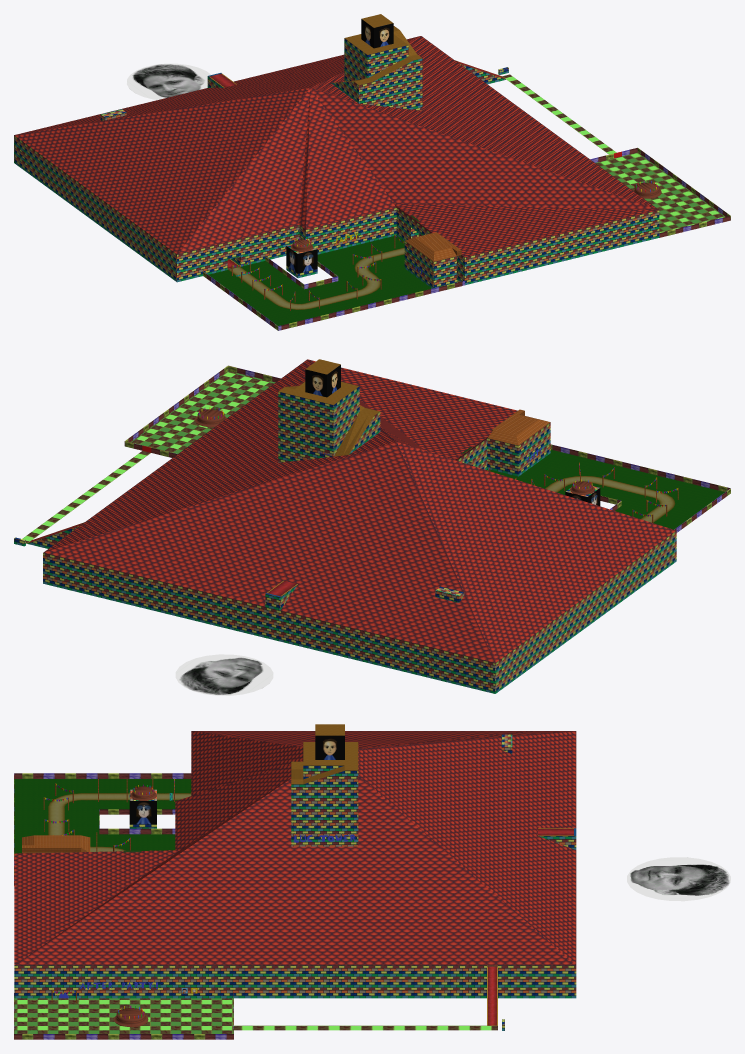
The picture shows the model from 3 angles, top to bottom: view 1: azimuth 30°, elevation 25°; view 2: azimuth 150°, elevation 25°; view 3: azimuth 270°, elevation 25°; orthographic projection. The views are drawn at different scales.
Parts seen in each view (by area): view 1: Birthday_Party_Main-dakweg, Birthday_Party_Main-wall2, Birthday_Party_Main-grass, Birthday_Party_Main-road3, Birthday_Party_Main-schutting, Birthday_Party_Main-offroad2121, Birthday_Party_Main-road, Birthday_Party_Main-wood, Birthday_Party_Main-road8888, Birthday_Party_Main-lucbakkes, Birthday_Party_Main-blijebakkes, Birthday_Party_Main-Material1; view 2: Birthday_Party_Main-dakweg, Birthday_Party_Main-wall2, Birthday_Party_Main-grass, Birthday_Party_Main-road3, Birthday_Party_Main-offroad2121, Birthday_Party_Main-schutting, Birthday_Party_Main-road8888, Birthday_Party_Main-wood, Birthday_Party_Main-road, Birthday_Party_Main-lucbakkes, Birthday_Party_Main-Material1; view 3: Birthday_Party_Main-dakweg, Birthday_Party_Main-wall2, Birthday_Party_Main-road3, Birthday_Party_Main-grass, Birthday_Party_Main-offroad2121, Birthday_Party_Main-schutting, Birthday_Party_Main-road8888, Birthday_Party_Main-wood, Birthday_Party_Main-road, Birthday_Party_Main-Material1, Birthday_Party_Main-lucbakkes, Birthday_Party_Main-blijebakkes (+2 smaller).
Part boxes in pixels (bbox=[...]): Birthday_Party_Main-dakweg: bbox=[14, 36, 658, 257]; Birthday_Party_Main-wall2: bbox=[14, 38, 659, 288]; Birthday_Party_Main-grass: bbox=[208, 235, 431, 325]; Birthday_Party_Main-road3: bbox=[457, 74, 725, 282]; Birthday_Party_Main-schutting: bbox=[203, 147, 730, 330]; Birthday_Party_Main-offroad2121: bbox=[127, 63, 210, 99]; Birthday_Party_Main-road: bbox=[228, 247, 404, 309]; Birthday_Party_Main-wood: bbox=[231, 61, 461, 310]; Birthday_Party_Main-road8888: bbox=[332, 14, 421, 85]; Birthday_Party_Main-lucbakkes: bbox=[361, 19, 393, 48]; Birthday_Party_Main-blijebakkes: bbox=[286, 246, 317, 273]; Birthday_Party_Main-Material1: bbox=[291, 182, 661, 251]; Birthday_Party_Main-dakweg: bbox=[43, 359, 676, 662]; Birthday_Party_Main-wall2: bbox=[14, 386, 676, 693]; Birthday_Party_Main-grass: bbox=[486, 449, 724, 529]; Birthday_Party_Main-road3: bbox=[22, 371, 275, 543]; Birthday_Party_Main-offroad2121: bbox=[175, 654, 273, 695]; Birthday_Party_Main-schutting: bbox=[124, 365, 730, 532]; Birthday_Party_Main-road8888: bbox=[278, 359, 379, 456]; Birthday_Party_Main-wood: bbox=[84, 409, 678, 522]; Birthday_Party_Main-road: bbox=[544, 475, 675, 523]; Birthday_Party_Main-lucbakkes: bbox=[305, 365, 340, 397]; Birthday_Party_Main-Material1: bbox=[195, 409, 594, 494]; Birthday_Party_Main-dakweg: bbox=[14, 731, 576, 965]; Birthday_Party_Main-wall2: bbox=[14, 734, 576, 1030]; Birthday_Party_Main-road3: bbox=[14, 998, 497, 1033]; Birthday_Party_Main-grass: bbox=[14, 779, 191, 853]; Birthday_Party_Main-offroad2121: bbox=[627, 857, 730, 901]; Birthday_Party_Main-schutting: bbox=[14, 773, 233, 1039]; Birthday_Party_Main-road8888: bbox=[291, 724, 358, 784]; Birthday_Party_Main-wood: bbox=[22, 779, 197, 1002]; Birthday_Party_Main-road: bbox=[47, 793, 191, 851]; Birthday_Party_Main-Material1: bbox=[114, 786, 156, 1026]; Birthday_Party_Main-lucbakkes: bbox=[315, 735, 344, 759]; Birthday_Party_Main-blijebakkes: bbox=[129, 801, 156, 824].
Size of what is drawn, in the model's own units: 118800 by 36758 by 130501.
Materials: 42 (42 with a texture image).
